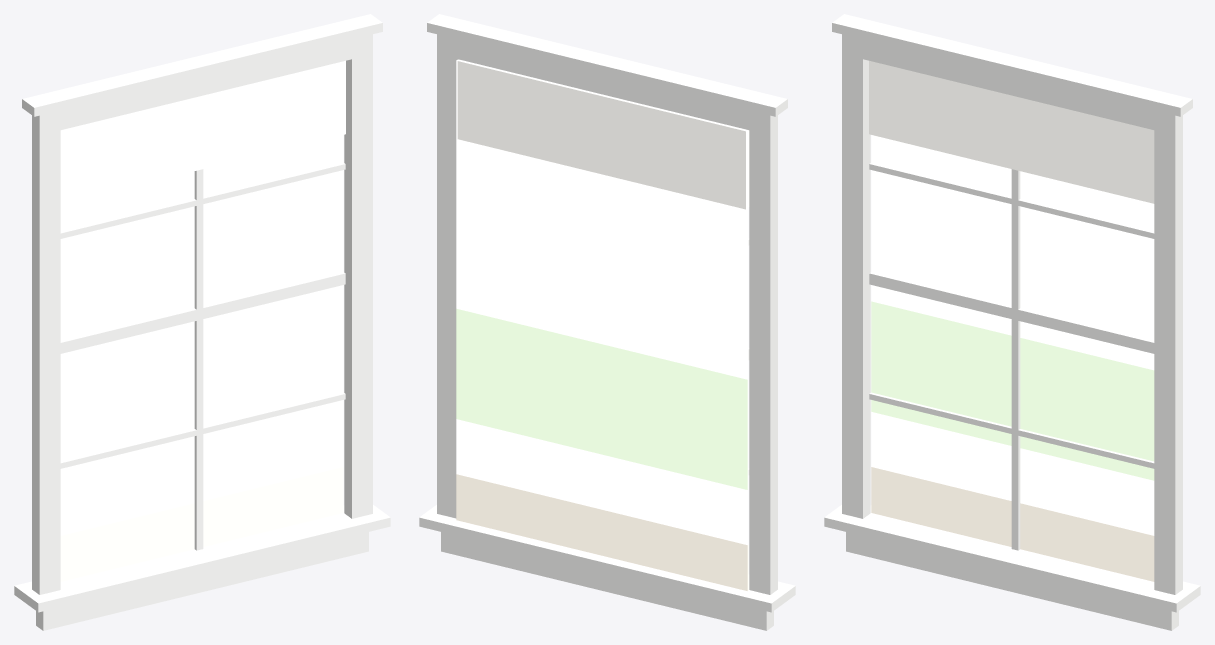
The model's file is win_n.glb.
3 renders of one model, left to right at view 1: azimuth 30°, elevation 25°; view 2: azimuth 150°, elevation 25°; view 3: azimuth 330°, elevation 25°, orthographic.
Parts seen in each view (by area): view 1: root; view 2: root; view 3: root.
Part boxes in pixels (x1=…): root: x1=14, y1=14, x2=390, y2=630; root: x1=419, y1=14, x2=795, y2=630; root: x1=824, y1=14, x2=1200, y2=630.
Bounding box in the file's own units: 1.12 × 1.61 × 0.1341.
